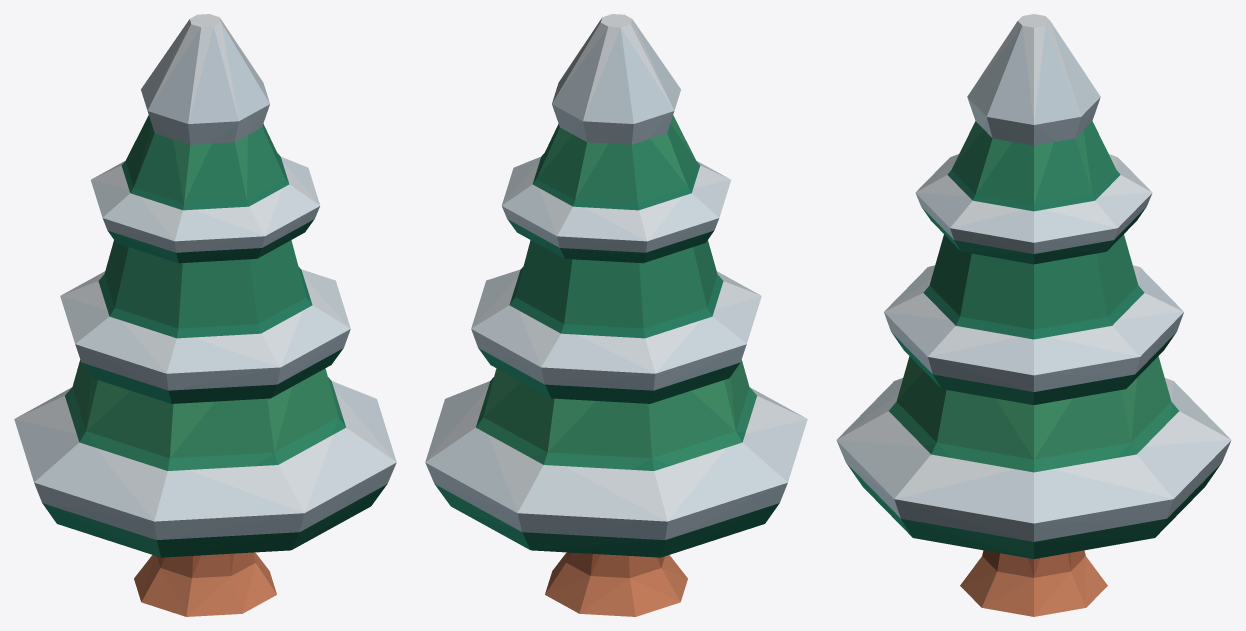
The model's file is tree_snow_b.glb.
3 views of the same model, side by side, from view 1: azimuth 30°, elevation 25°; view 2: azimuth 150°, elevation 25°; view 3: azimuth 270°, elevation 25° (orthographic).
Visible parts, largest first — view 1: tree_snow_b; view 2: tree_snow_b; view 3: tree_snow_b.
Part boxes in pixels (x1,y1,x2,y2): tree_snow_b: (14,14,396,616); tree_snow_b: (425,14,807,616); tree_snow_b: (836,14,1231,616).
Bounding box in the file's own units: 1.78 × 2.8 × 1.78.
